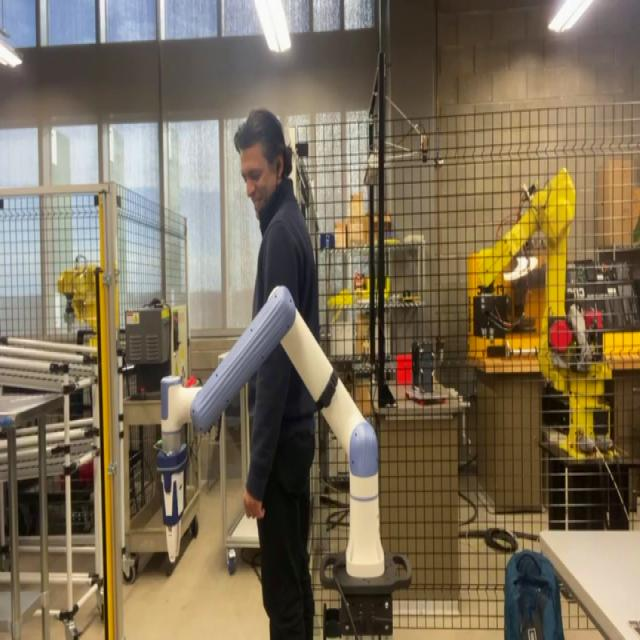robot: (160, 281, 413, 636)
